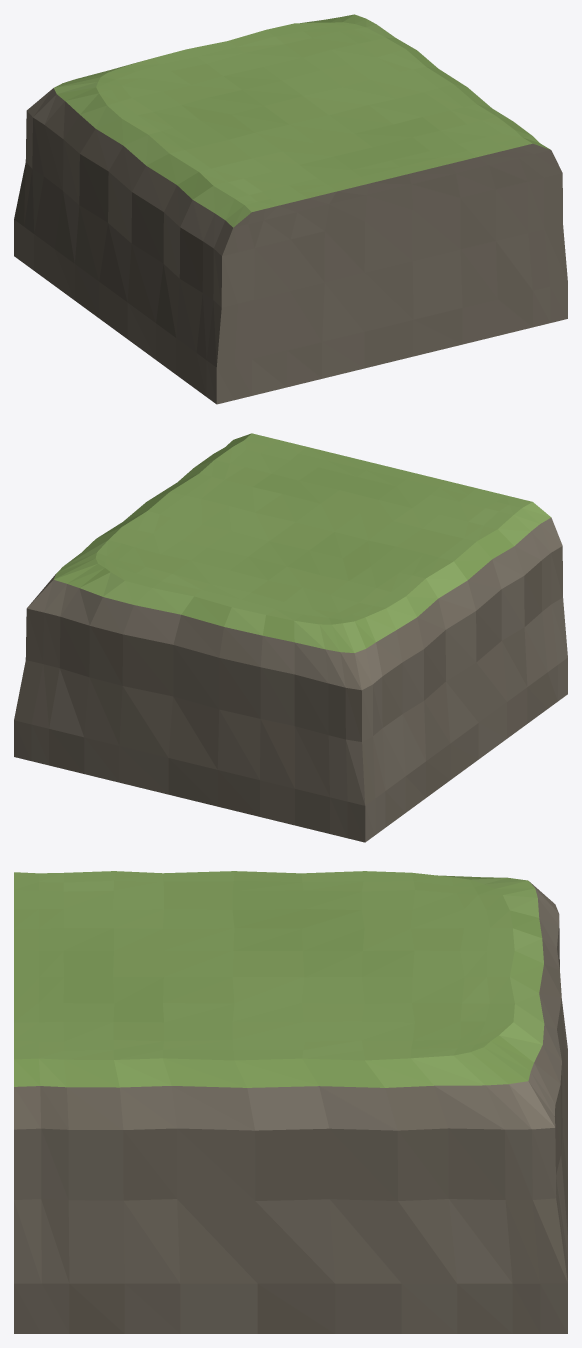
The model's file is grass_cape.glb.
3 views of the same model, one above another, from view 1: azimuth 30°, elevation 25°; view 2: azimuth 150°, elevation 25°; view 3: azimuth 270°, elevation 25° (orthographic). The views are drawn at different scales.
Parts seen in each view (by area): view 1: grass_cape; view 2: grass_cape; view 3: grass_cape.
Boxes of the visible parts, left/top/right/bottom form: grass_cape: left=14, top=14, right=567, bottom=404; grass_cape: left=14, top=433, right=567, bottom=842; grass_cape: left=14, top=871, right=567, bottom=1333.
Size of the model in its own units: 1 by 0.5 by 1.
